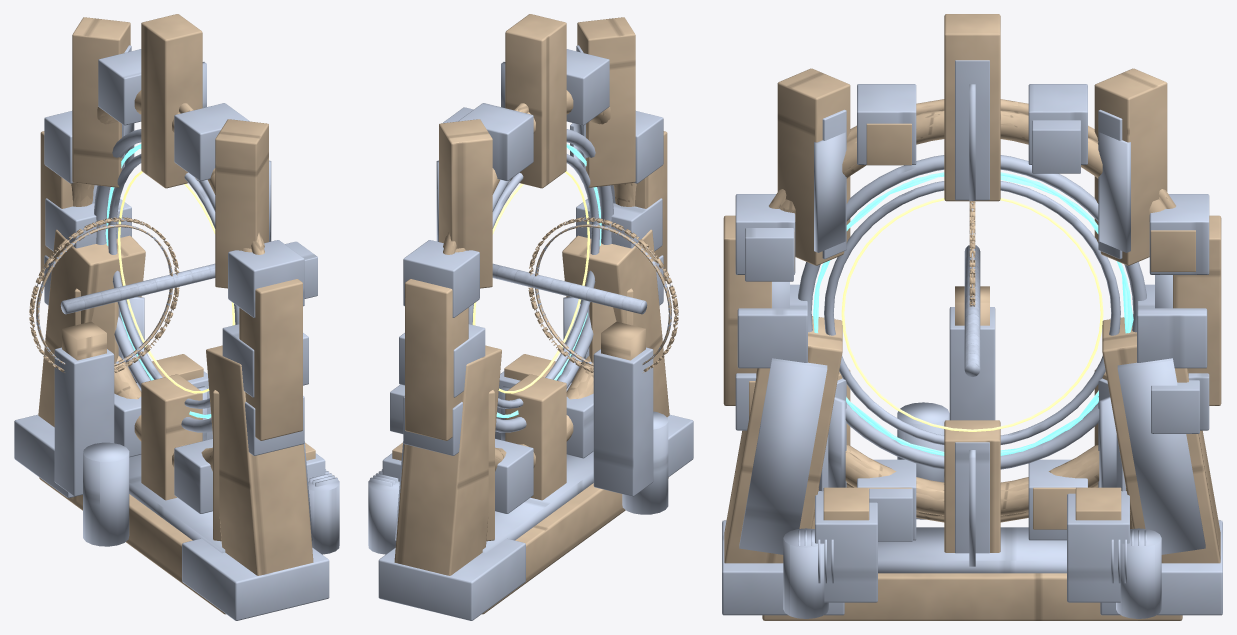
The model's file is helios_gate.glb.
3 renders of one model, left to right at view 1: azimuth 30°, elevation 25°; view 2: azimuth 150°, elevation 25°; view 3: azimuth 270°, elevation 25°, orthographic. The views are drawn at different scales.
Visible parts, largest first — view 1: LOD0_Merged_Material_Hull, LOD0_Merged_Material_Mechanical, LOD1_Merged_Material_Mechanical, LOD1_Merged_Material_Hull, LOD2_Merged_Material_Hull, LOD0_Merged_Material_Warm; view 2: LOD0_Merged_Material_Hull, LOD0_Merged_Material_Mechanical, LOD1_Merged_Material_Mechanical, LOD1_Merged_Material_Hull, LOD2_Merged_Material_Hull, LOD0_Merged_Material_Warm; view 3: LOD0_Merged_Material_Mechanical, LOD0_Merged_Material_Hull, LOD1_Merged_Material_Hull, LOD2_Merged_Material_Hull, LOD0_Merged_Material_Warm, LOD0_HOOK_EMISSIVE, LOD1_Merged_Material_Mechanical, LOD2_HOOK_EMISSIVE, LOD1_HOOK_EMISSIVE.
Part boxes in pixels (x1,y1,x2,y2): LOD0_Merged_Material_Hull: [29, 14, 315, 614]; LOD0_Merged_Material_Mechanical: [14, 45, 339, 620]; LOD1_Merged_Material_Mechanical: [60, 263, 215, 314]; LOD1_Merged_Material_Hull: [72, 90, 264, 471]; LOD2_Merged_Material_Hull: [71, 99, 262, 467]; LOD0_Merged_Material_Warm: [118, 171, 235, 393]; LOD0_Merged_Material_Hull: [392, 14, 678, 614]; LOD0_Merged_Material_Mechanical: [368, 45, 693, 620]; LOD1_Merged_Material_Mechanical: [492, 263, 647, 314]; LOD1_Merged_Material_Hull: [443, 90, 635, 471]; LOD2_Merged_Material_Hull: [445, 99, 636, 467]; LOD0_Merged_Material_Warm: [472, 171, 589, 393]; LOD0_Merged_Material_Mechanical: [722, 60, 1222, 618]; LOD0_Merged_Material_Hull: [723, 14, 1221, 620]; LOD1_Merged_Material_Hull: [769, 99, 1175, 522]; LOD2_Merged_Material_Hull: [775, 102, 1169, 520]; LOD0_Merged_Material_Warm: [841, 198, 1103, 431]; LOD0_HOOK_EMISSIVE: [813, 172, 1131, 455]; LOD1_Merged_Material_Mechanical: [964, 245, 980, 376]; LOD2_HOOK_EMISSIVE: [815, 175, 1133, 453]; LOD1_HOOK_EMISSIVE: [814, 172, 1130, 454].
Bounding box in the file's own units: 18.5 × 36.29 × 28.6.
4 materials, 4 textured.
